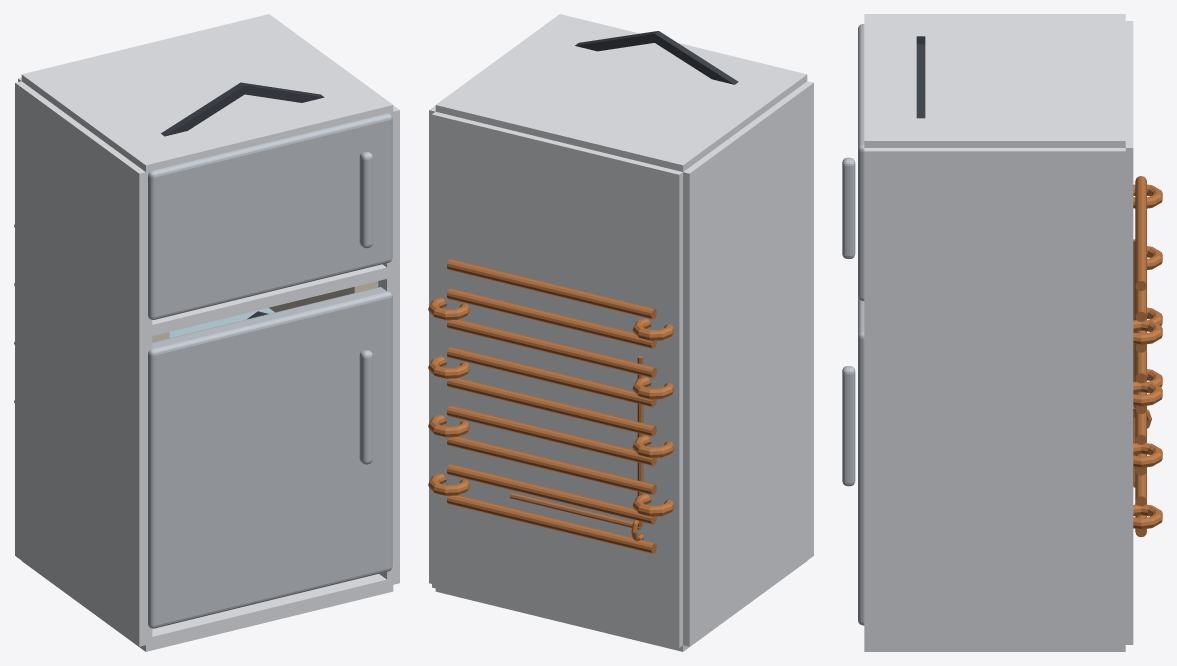
The model's file is refrigerator.glb.
3 views of the same model, side by side, from view 1: azimuth 30°, elevation 25°; view 2: azimuth 150°, elevation 25°; view 3: azimuth 270°, elevation 25° (orthographic). The views are drawn at different scales.
Visible parts, largest first — view 1: cabinet, fridge_door, freezer_door, door_gasket, insulation, shelves; view 2: cabinet, condenser, door_gasket, capillary_tube; view 3: cabinet, condenser, fridge_door, freezer_door, door_gasket, capillary_tube.
Part boxes in pixels (left/top/right/bottom): cabinet: left=15, top=14, right=399, bottom=651; fridge_door: left=148, top=287, right=392, bottom=628; freezer_door: left=148, top=113, right=392, bottom=319; door_gasket: left=161, top=82, right=324, bottom=319; insulation: left=152, top=281, right=378, bottom=342; shelves: left=169, top=308, right=274, bottom=337; cabinet: left=429, top=14, right=813, bottom=651; condenser: left=428, top=259, right=674, bottom=553; door_gasket: left=575, top=31, right=738, bottom=84; capillary_tube: left=510, top=355, right=644, bottom=541; cabinet: left=864, top=14, right=1133, bottom=651; condenser: left=1133, top=176, right=1162, bottom=537; fridge_door: left=842, top=297, right=864, bottom=625; freezer_door: left=842, top=24, right=864, bottom=301; door_gasket: left=916, top=36, right=925, bottom=118; capillary_tube: left=1133, top=239, right=1151, bottom=487.
Size of the model in its own units: 1.21 by 2.3 by 1.23.
